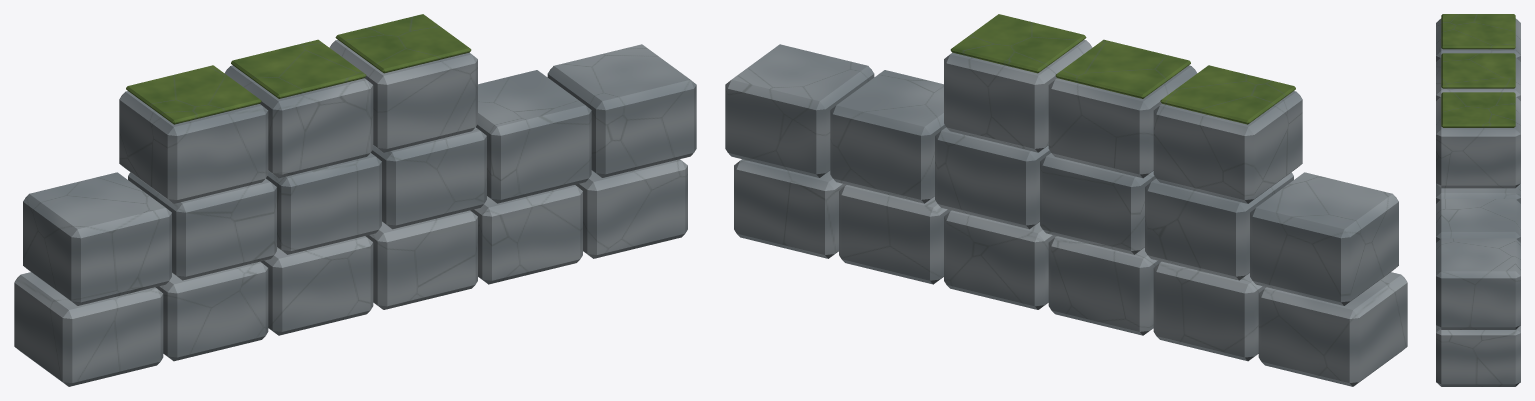
Rendered from observatory_wall.glb.
3 renders of one model, left to right at view 1: azimuth 30°, elevation 25°; view 2: azimuth 150°, elevation 25°; view 3: azimuth 270°, elevation 25°, orthographic. The views are drawn at different scales.
Parts seen in each view (by area): view 1: observatory_wall_Mesh; view 2: observatory_wall_Mesh; view 3: observatory_wall_Mesh.
Boxes of the visible parts, x1,y1,x2,y2 form: observatory_wall_Mesh: (14,14,696,386); observatory_wall_Mesh: (725,14,1407,386); observatory_wall_Mesh: (1436,14,1520,386).
Bounding box in the file's own units: 3.62 × 1.31 × 0.55.
Materials: 1 (1 with a texture image).
